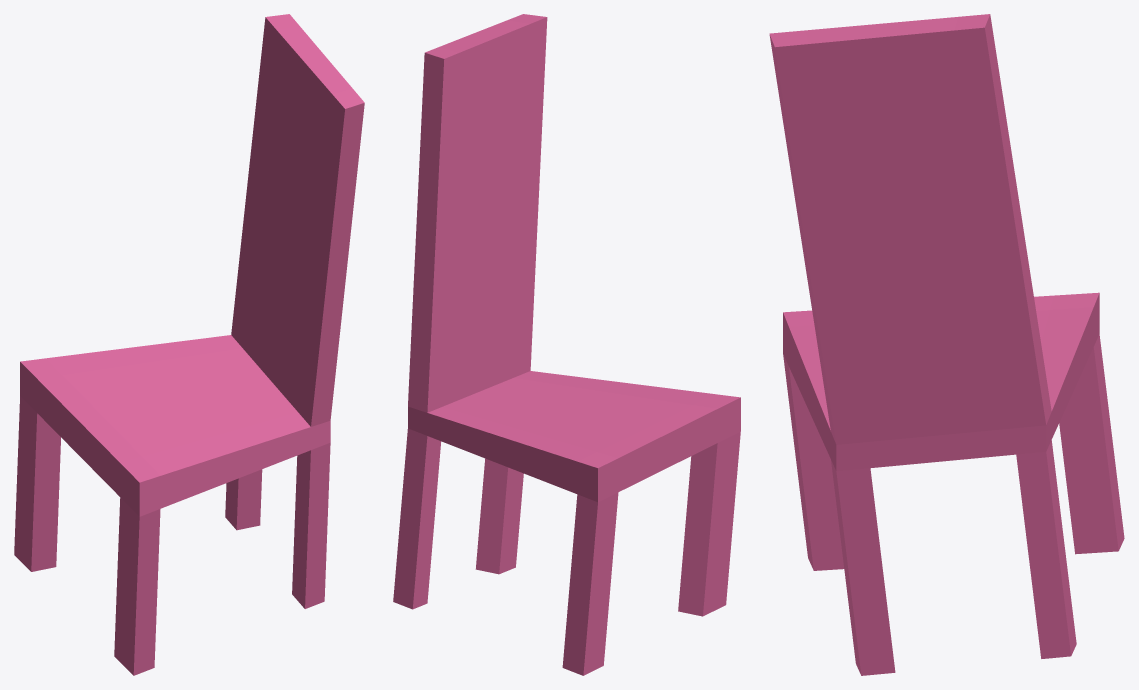
The model's file is Chair.fbx.
3 renders of one model, left to right at view 1: azimuth 30°, elevation 25°; view 2: azimuth 150°, elevation 25°; view 3: azimuth 270°, elevation 25°, orthographic. The views are drawn at different scales.
Visible parts, largest first — view 1: Cube; view 2: Cube; view 3: Cube.
Boxes of the visible parts, left/top/right/bottom form: Cube: left=14, top=14, right=364, bottom=675; Cube: left=393, top=14, right=740, bottom=675; Cube: left=769, top=14, right=1124, bottom=675.
Bounding box in the file's own units: 219 × 496 × 240.
